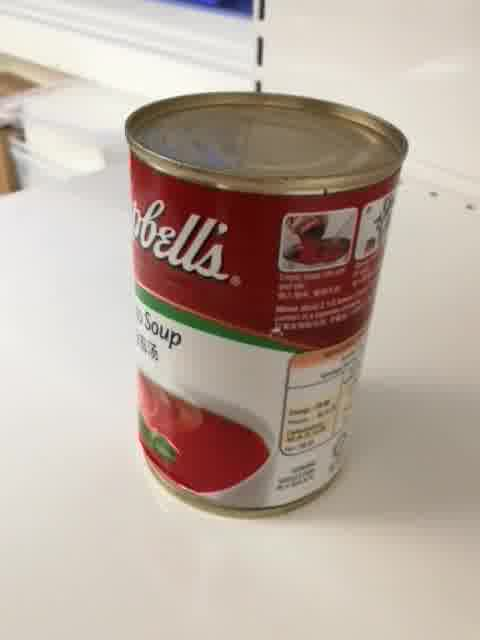tomatosoup: (124, 91, 412, 523)
